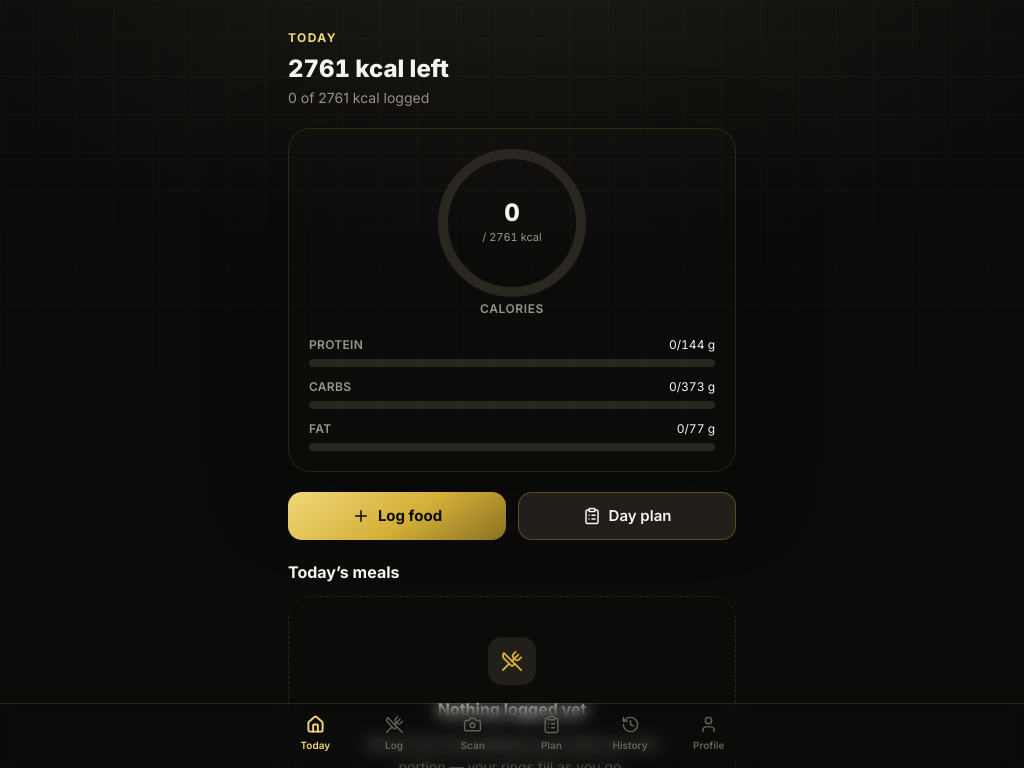
Test: routing — once onboarded › lazily loads the plan screen without crashing
The width and height of the screenshot is (1024, 768).
Click the link "Plan".
click(551, 733)  # box top-left (541, 715), bottom-right (562, 751)
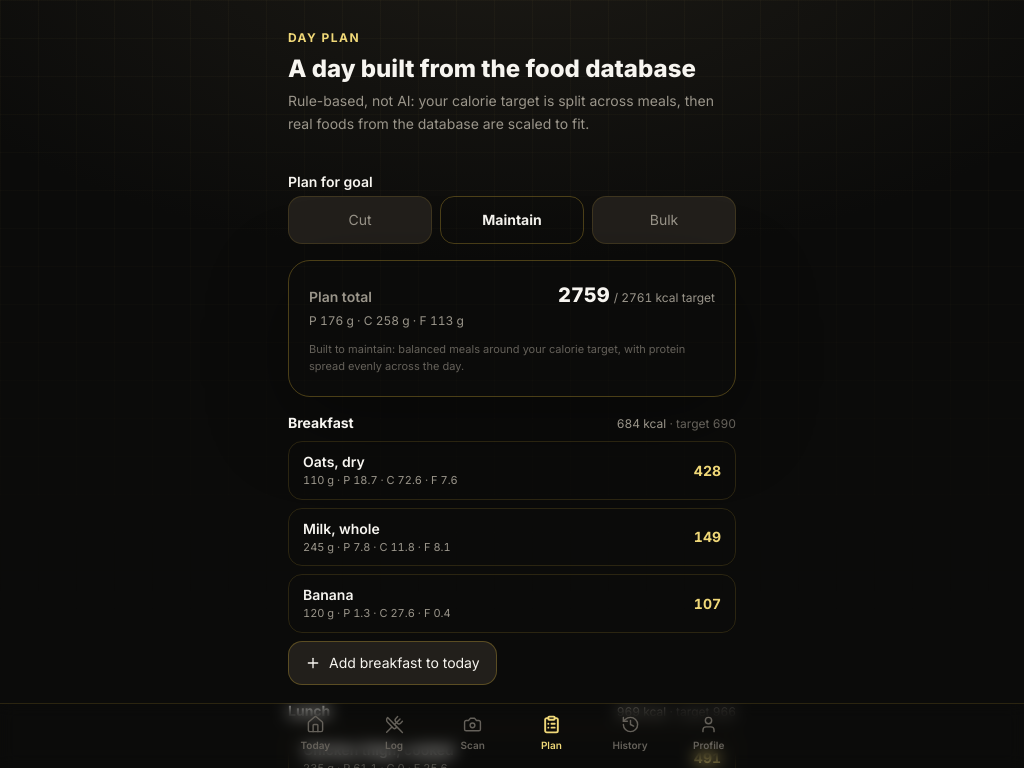
Expected: the heading "A day built from the food database" is shown, top-left (288, 54), bottom-right (736, 84)
